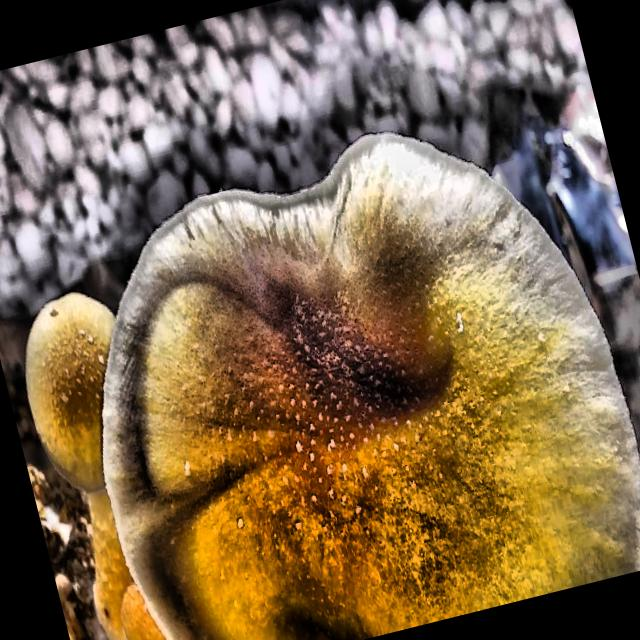Affected: (263, 282, 436, 460), (228, 563, 391, 640)
